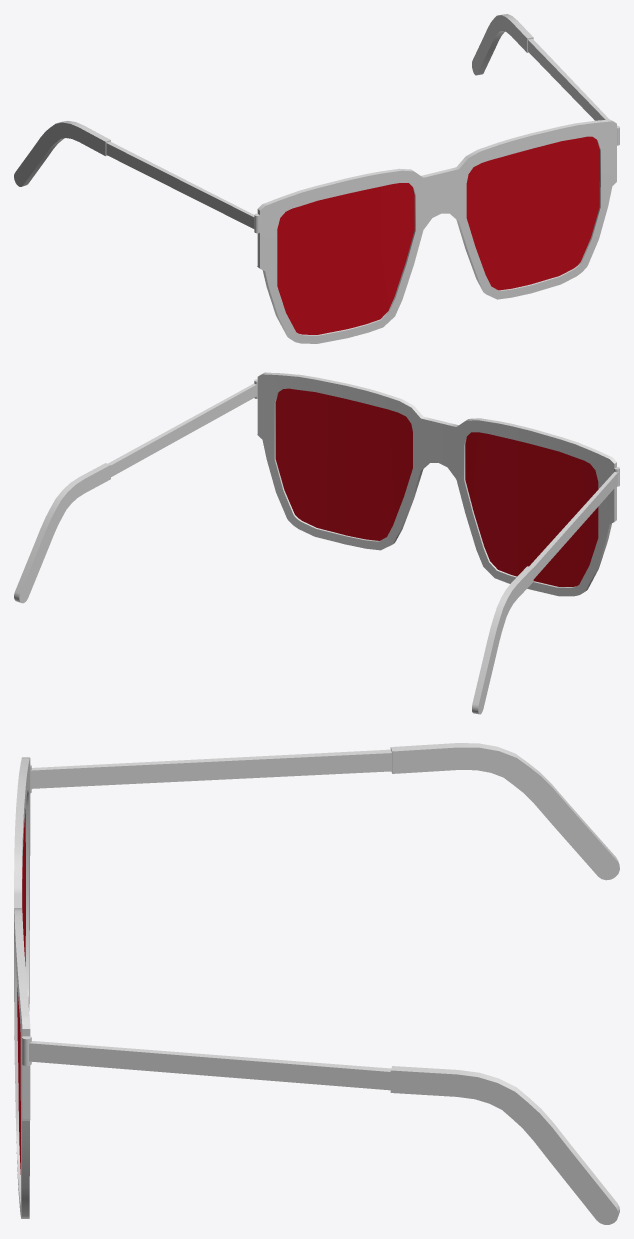
File: glasses19.001.obj
The picture shows the model from 3 angles, top to bottom: view 1: azimuth 30°, elevation 25°; view 2: azimuth 150°, elevation 25°; view 3: azimuth 270°, elevation 25°; orthographic projection. The views are drawn at different scales.
Visible parts, largest first — view 1: glasses19.001_glasses19.001_Material.032, glasses19.001_glasses19.001_Material.033; view 2: glasses19.001_glasses19.001_Material.032, glasses19.001_glasses19.001_Material.033; view 3: glasses19.001_glasses19.001_Material.033, glasses19.001_glasses19.001_Material.032.
Part boxes in pixels (x1=…): glasses19.001_glasses19.001_Material.032: x1=277, y1=136, x2=599, y2=334; glasses19.001_glasses19.001_Material.033: x1=14, y1=14, x2=619, y2=343; glasses19.001_glasses19.001_Material.032: x1=275, y1=388, x2=598, y2=586; glasses19.001_glasses19.001_Material.033: x1=14, y1=372, x2=619, y2=714; glasses19.001_glasses19.001_Material.033: x1=14, y1=743, x2=619, y2=1224; glasses19.001_glasses19.001_Material.032: x1=17, y1=809, x2=25, y2=1174.
Bounding box in the file's own units: 2.28 × 0.7419 × 1.66.
